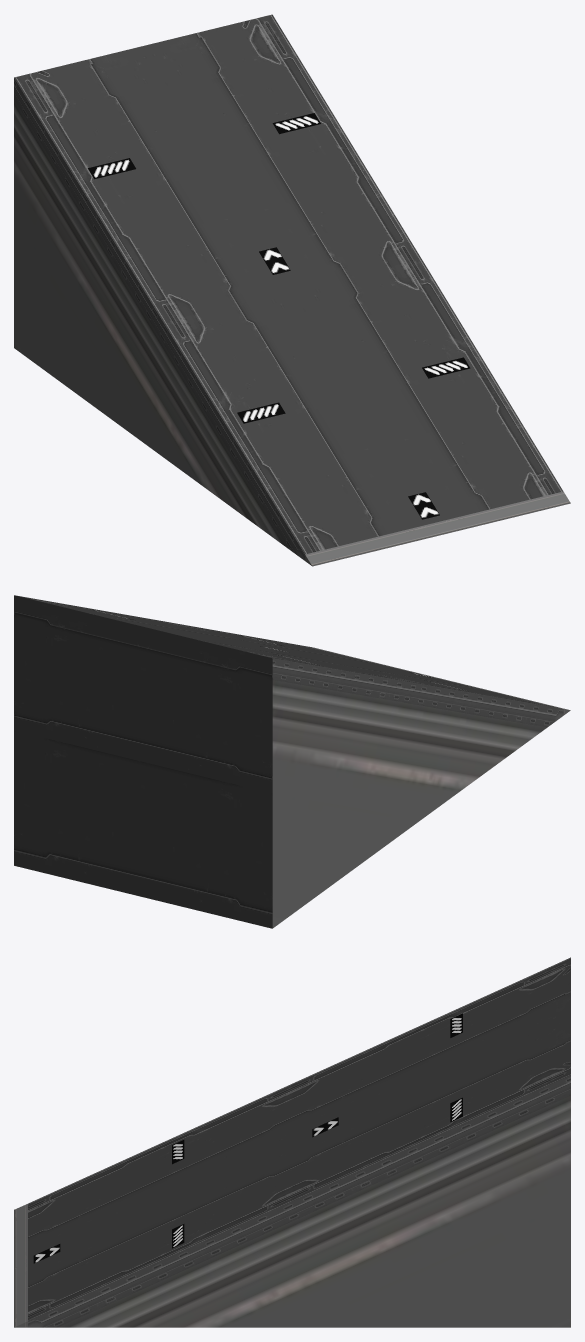
The model's file is Platform_Ramp_4.glb.
3 renders of one model, top to bottom at view 1: azimuth 30°, elevation 25°; view 2: azimuth 150°, elevation 25°; view 3: azimuth 270°, elevation 25°, orthographic. The views are drawn at different scales.
Parts seen in each view (by area): view 1: Platform_Ramp_4; view 2: Platform_Ramp_4; view 3: Platform_Ramp_4.
Boxes of the visible parts, bbox=[...] form: Platform_Ramp_4: bbox=[14, 14, 570, 566]; Platform_Ramp_4: bbox=[14, 595, 570, 928]; Platform_Ramp_4: bbox=[14, 957, 570, 1327].
Size of the model in its own units: 2 by 2 by 4.
3 materials, 3 textured.
